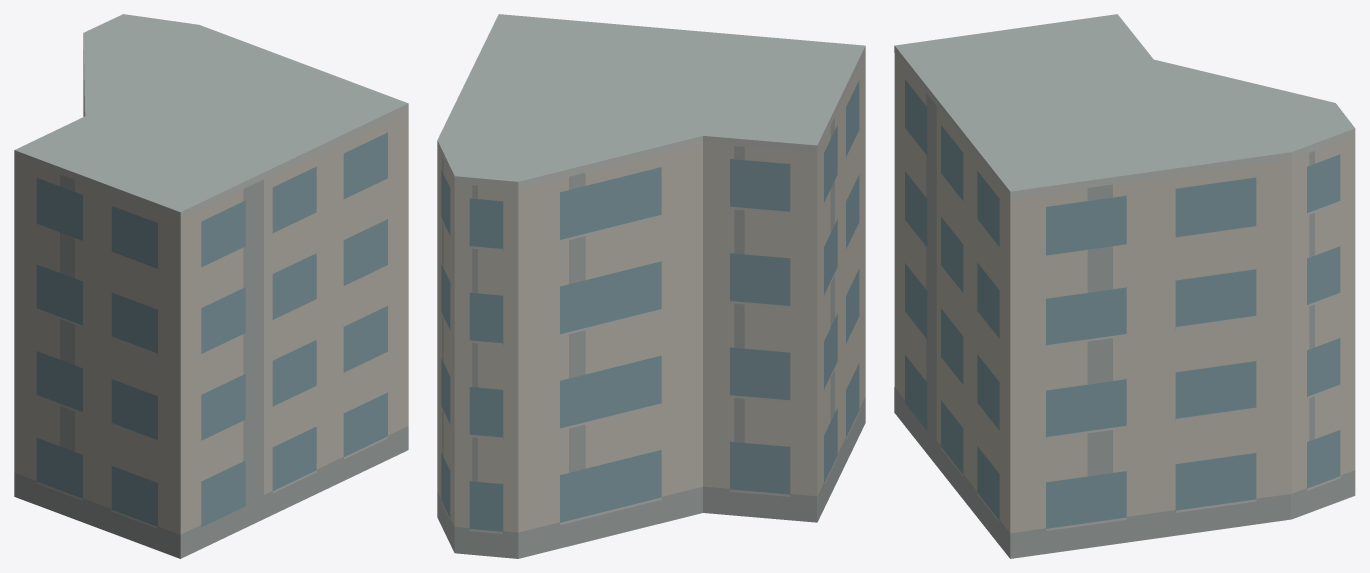
File: residential-4f7123fc-1e89-4dd1-8ed3-fe9a548c66a8.glb
3 views of the same model, side by side, from view 1: azimuth 30°, elevation 25°; view 2: azimuth 150°, elevation 25°; view 3: azimuth 270°, elevation 25° (orthographic). The views are drawn at different scales.
Parts seen in each view (by area): view 1: residential-4f7123fc-1e89-4dd1-8ed3-fe9a548c66a8.tmp; view 2: residential-4f7123fc-1e89-4dd1-8ed3-fe9a548c66a8.tmp; view 3: residential-4f7123fc-1e89-4dd1-8ed3-fe9a548c66a8.tmp.
Part boxes in pixels (x1=…): residential-4f7123fc-1e89-4dd1-8ed3-fe9a548c66a8.tmp: x1=14, y1=14, x2=408, y2=558; residential-4f7123fc-1e89-4dd1-8ed3-fe9a548c66a8.tmp: x1=437, y1=14, x2=865, y2=558; residential-4f7123fc-1e89-4dd1-8ed3-fe9a548c66a8.tmp: x1=894, y1=14, x2=1355, y2=558.
Size of the model in its own units: 12.66 by 12.2 by 13.88.
